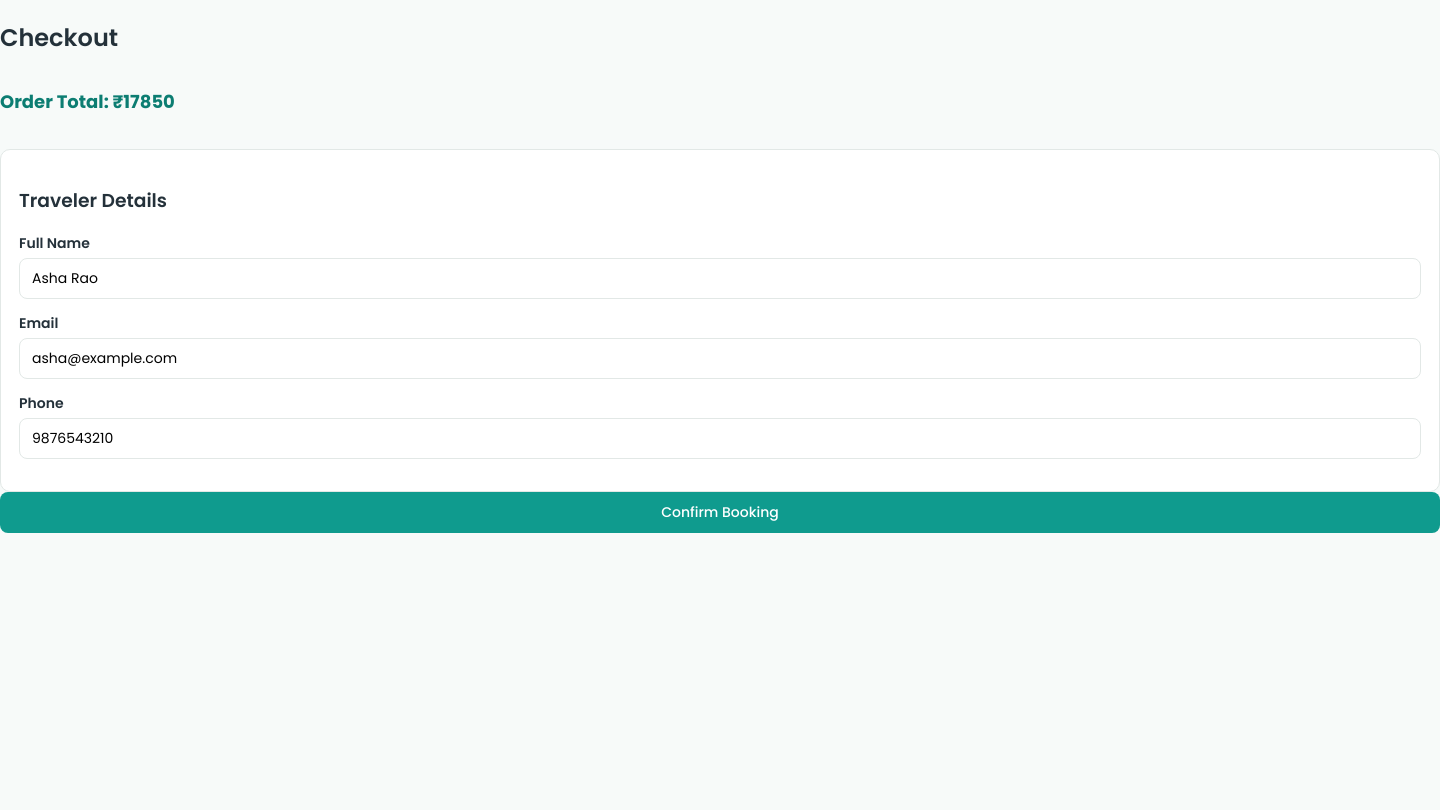
Checkout (confirm booking) › creates the booking, clears the cart and shows the confirmation
The width and height of the screenshot is (1440, 810).
Click the button "Confirm Booking" at (720, 513), box x1=0 y1=492 x2=1439 y2=533
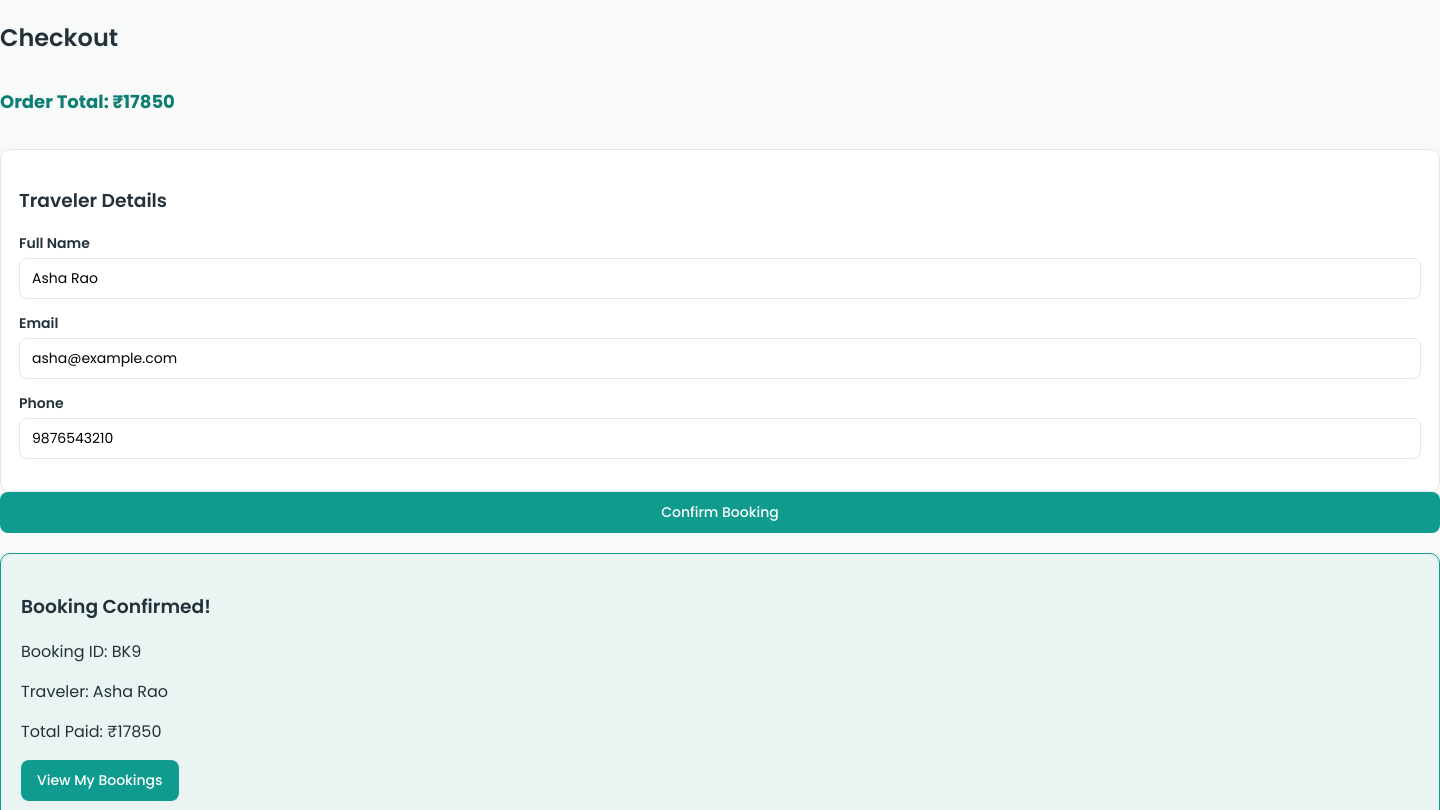
Result: the heading "Booking Confirmed!" is shown at x1=21 y1=593 x2=211 y2=620
Result: the text "Booking ID: BK9" is shown at x1=21 y1=640 x2=141 y2=663
